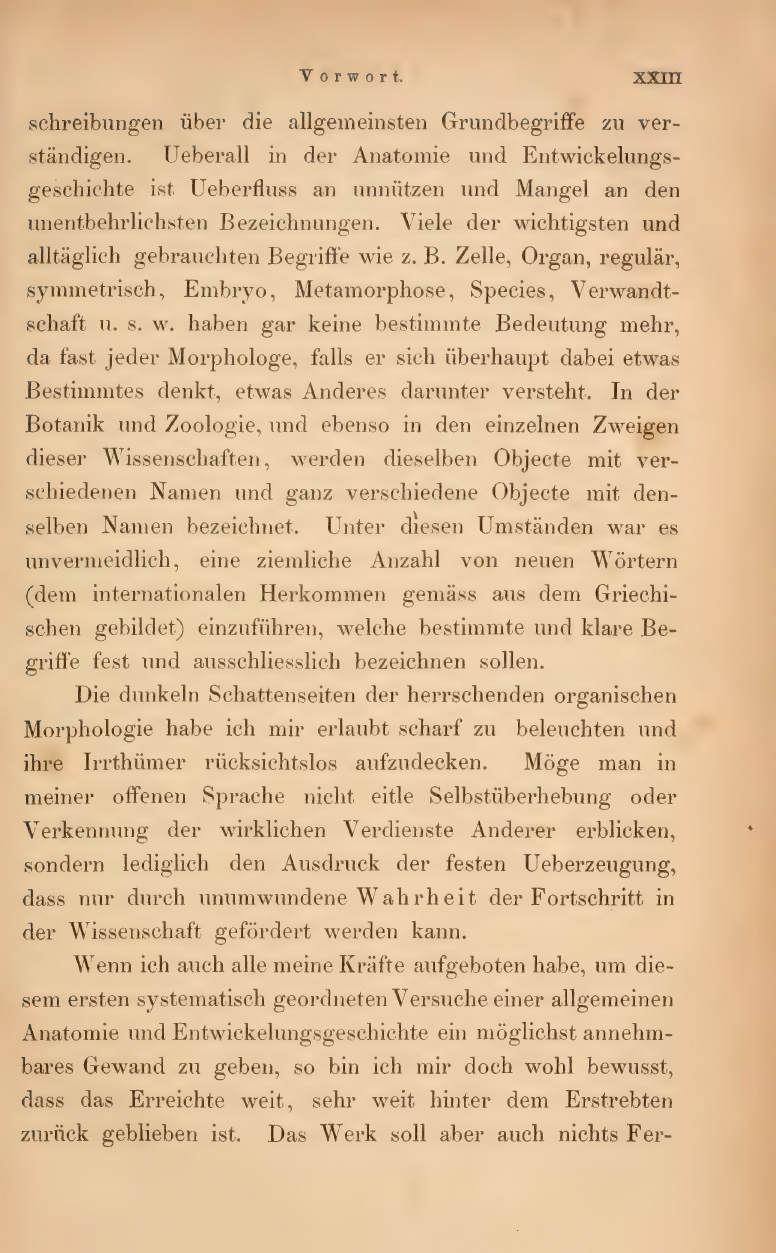NumberingZone_page: (622, 60, 697, 96)
RunningTitleZone: (285, 58, 422, 92)
TableZone: (12, 97, 710, 1179)
